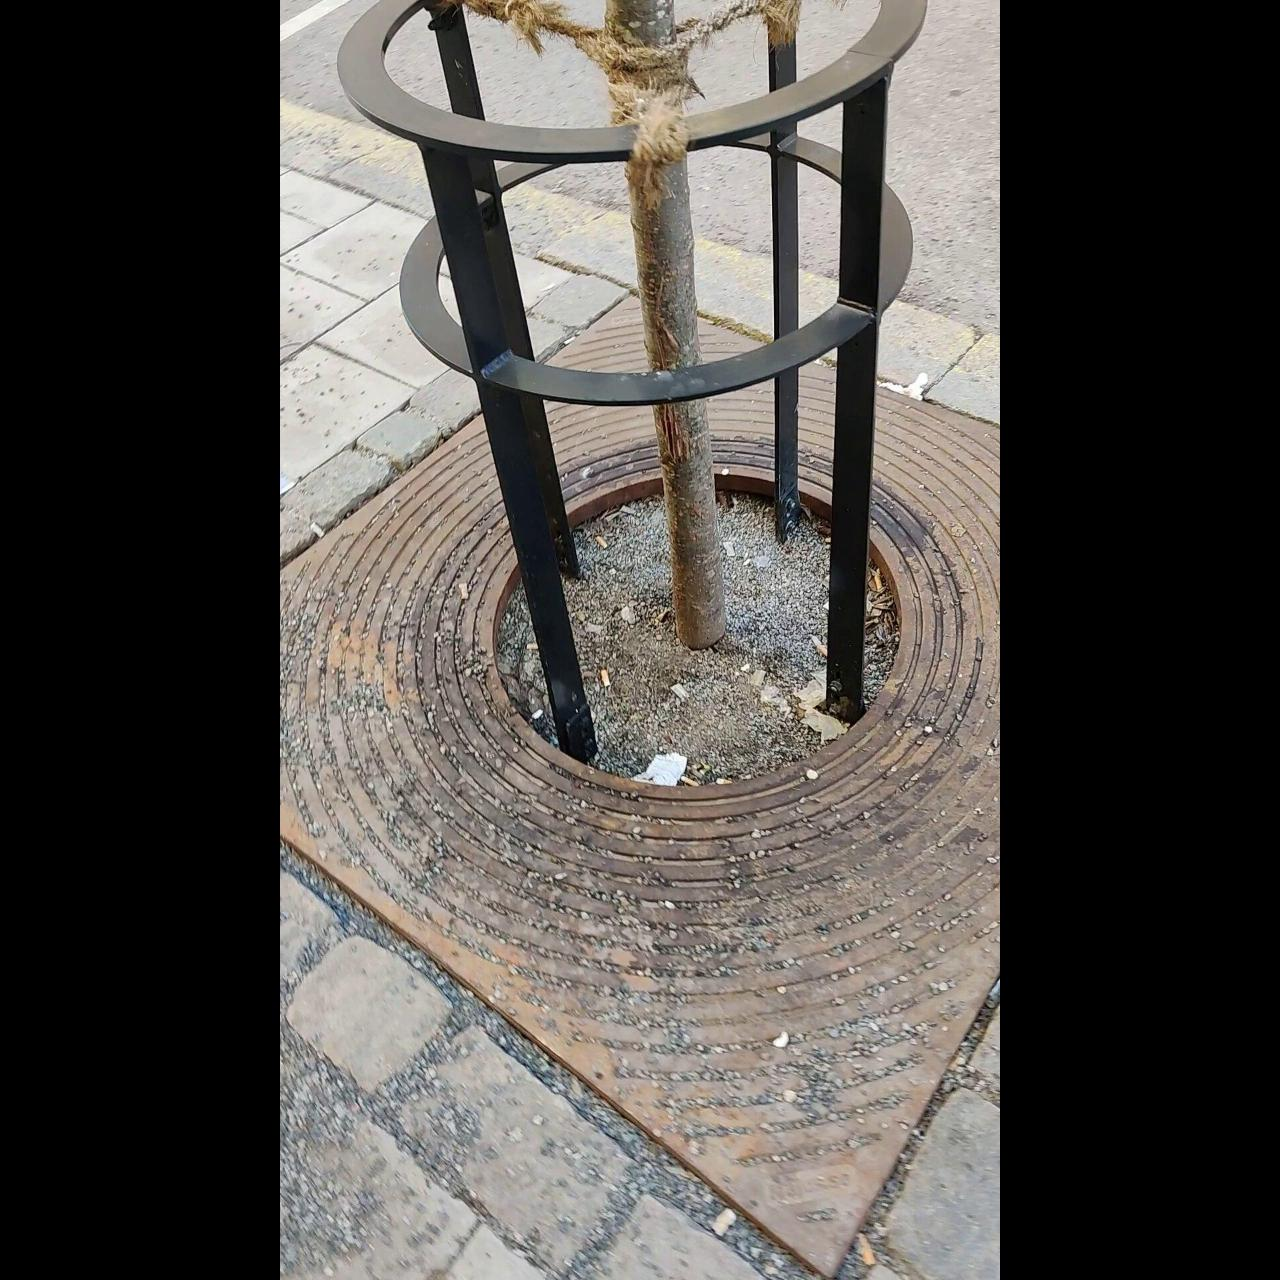cigarettes_butts: (812, 635, 828, 656), (872, 570, 884, 597), (680, 777, 701, 791), (599, 668, 613, 688), (595, 533, 607, 551), (716, 776, 730, 787)
others: (457, 580, 471, 601), (309, 519, 324, 539), (674, 683, 688, 701), (724, 542, 736, 556)
